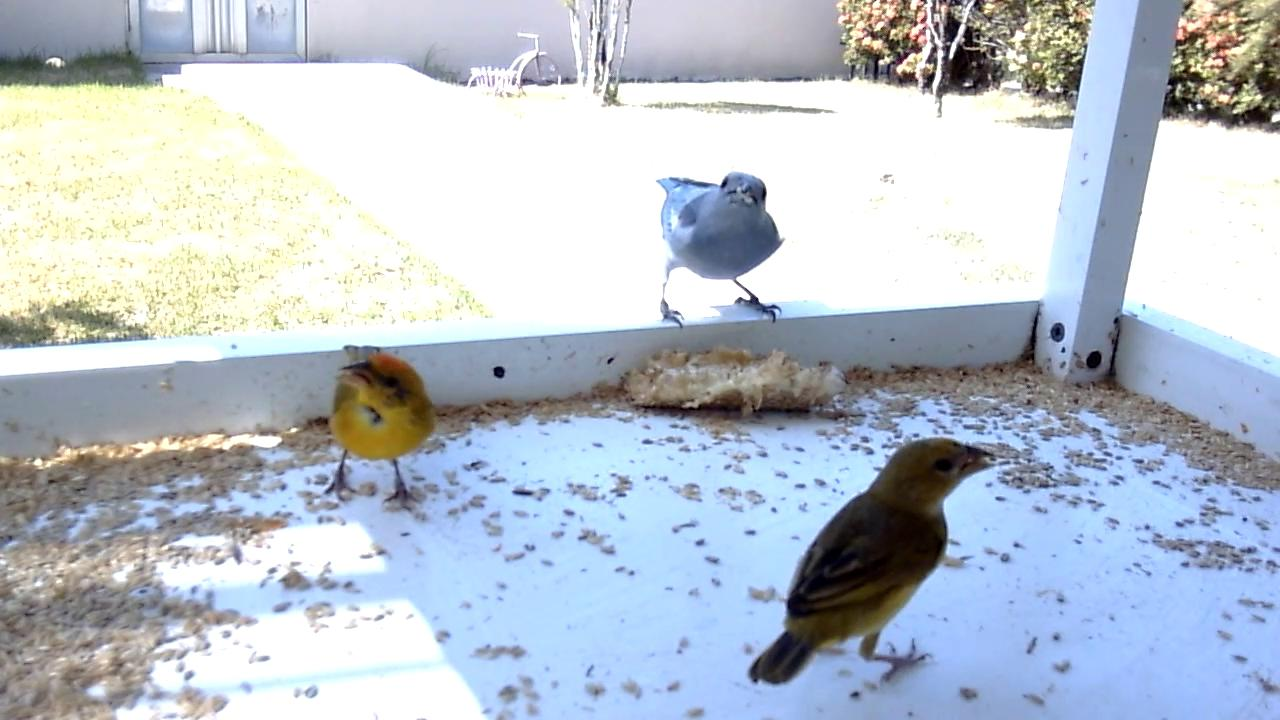canario_do_amazonas: (746, 437, 996, 689), (324, 343, 438, 510)
sanhaco_da_amazonia: (655, 169, 790, 332)
